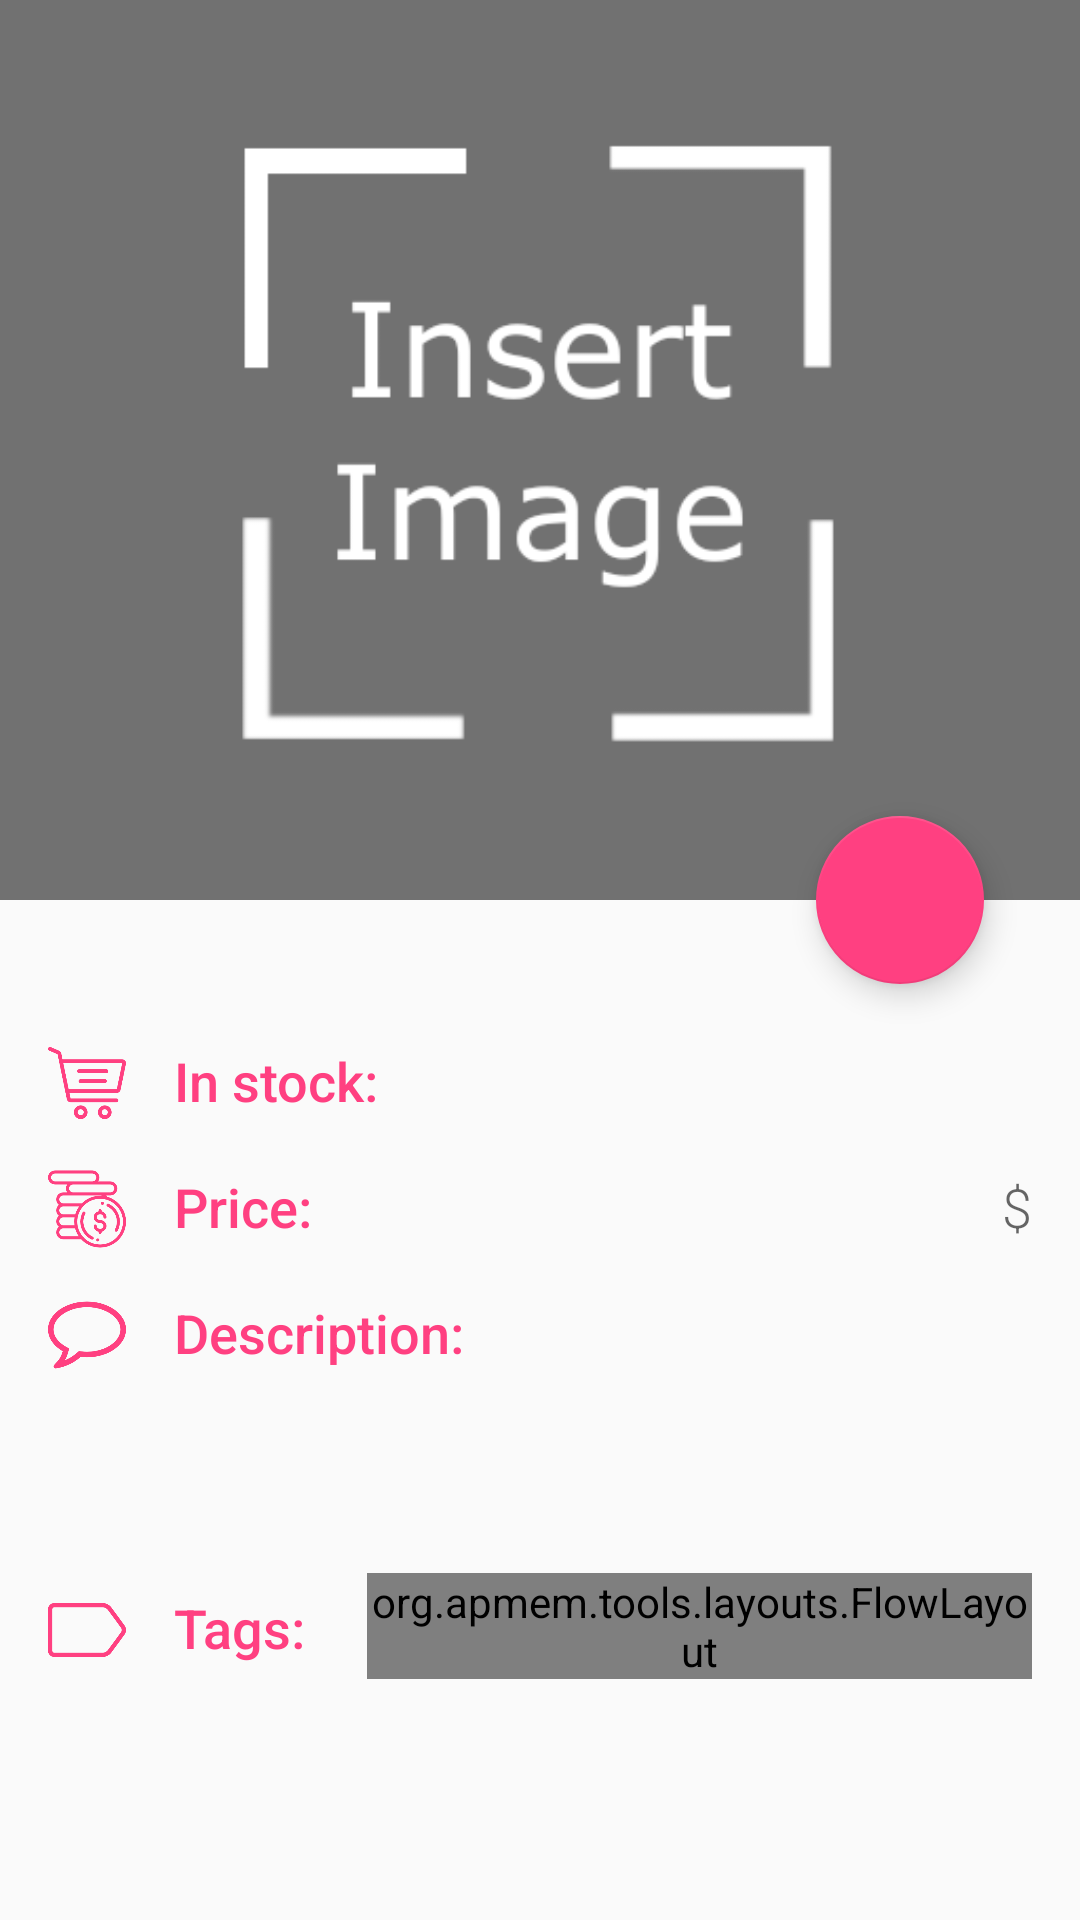

Icons on this 1080w x 1920h Android screen, each with its box as [x1=x1, y1=y1, x2=x2, y2=y2]:
tag: [x1=48, y1=1603, x2=126, y2=1657]
